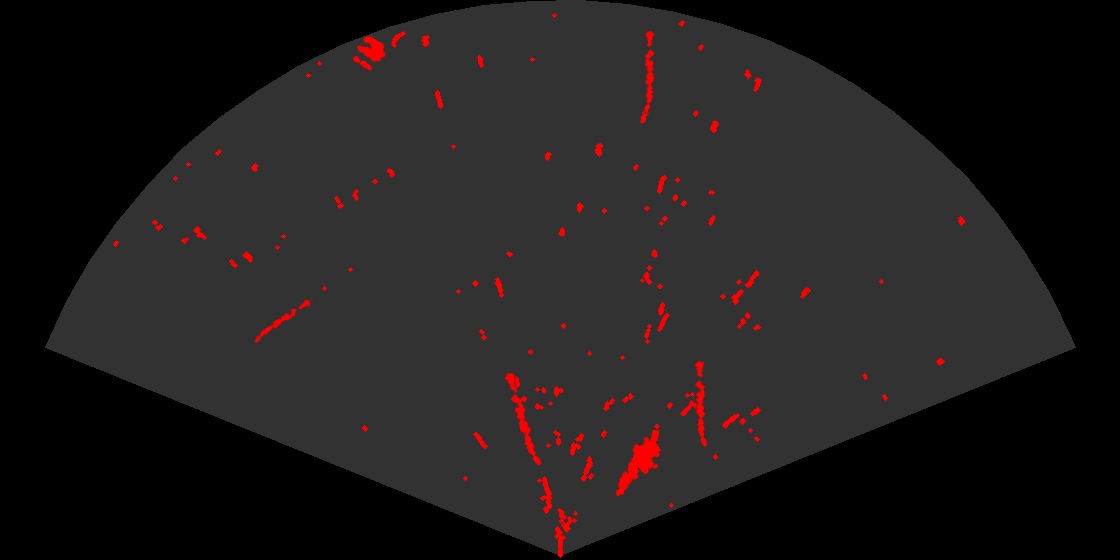ball: (351, 34, 387, 72)
chain: (503, 371, 543, 467), (253, 296, 314, 344), (693, 360, 709, 448), (643, 30, 656, 114)
frogman: (614, 430, 662, 498)
